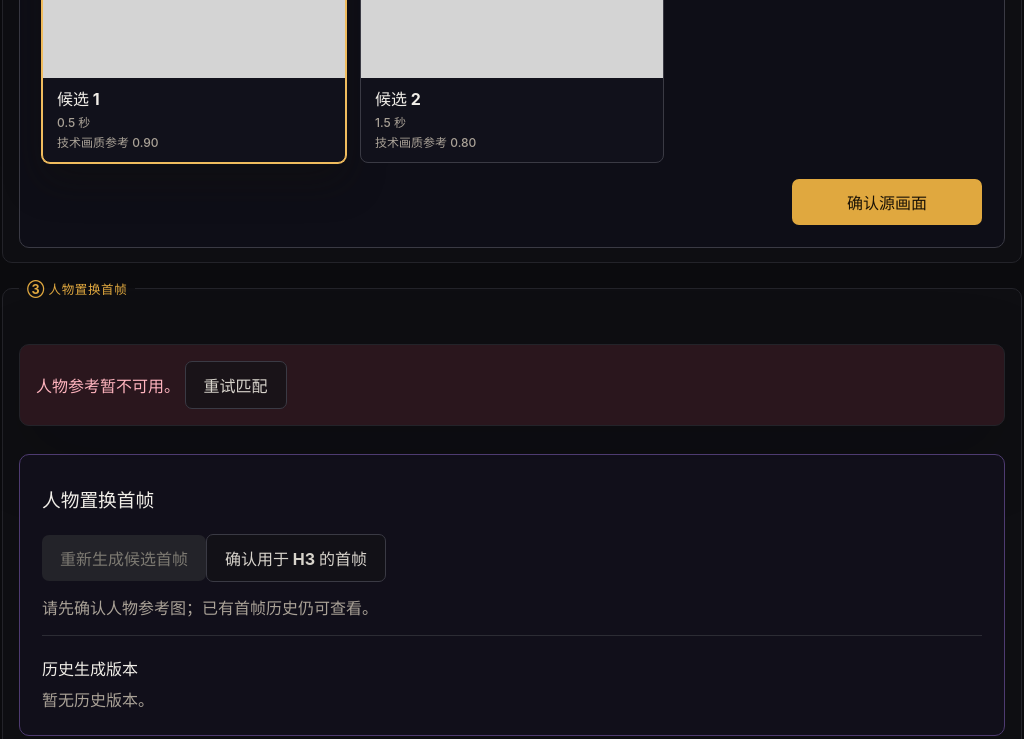
Test: ProjectDetailFlow › shows a retryable error when auto-matching fails
This screenshot has width=1024, height=739.
(page scrolled)
Expected: the text "人物参考暂不可用。 重试匹配" is shown, [19, 344, 1005, 426]
Click the button "重试匹配". click: (236, 385)
box: [184, 361, 286, 409]
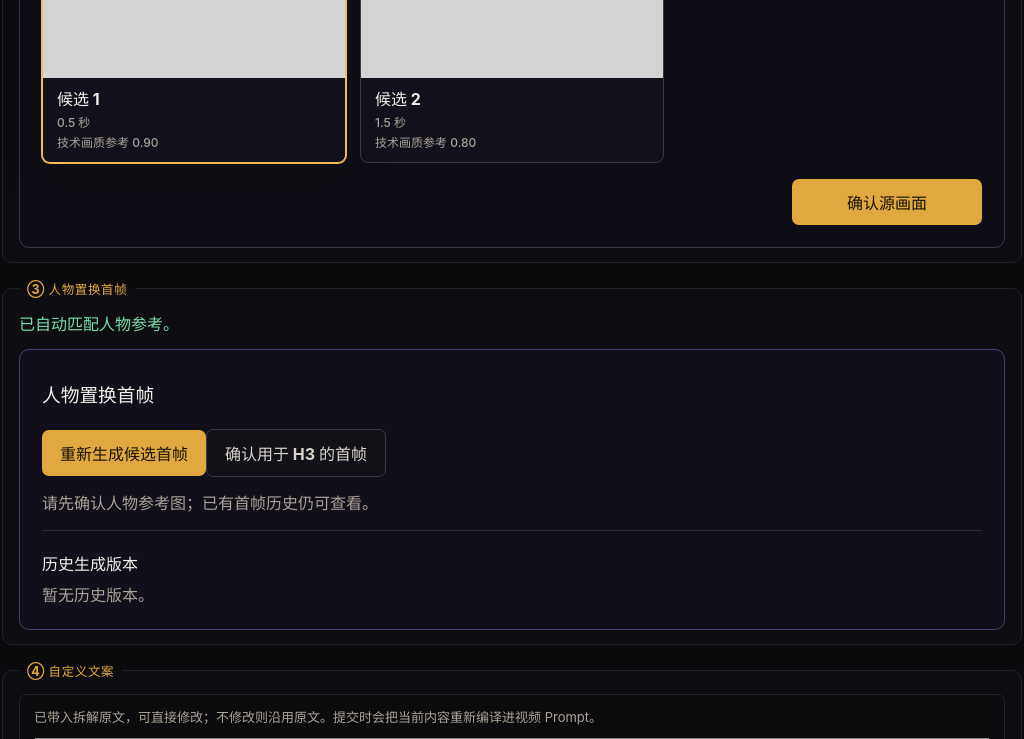
Result: the text "已自动匹配人物参考。" is shown at [19, 314, 179, 334]
